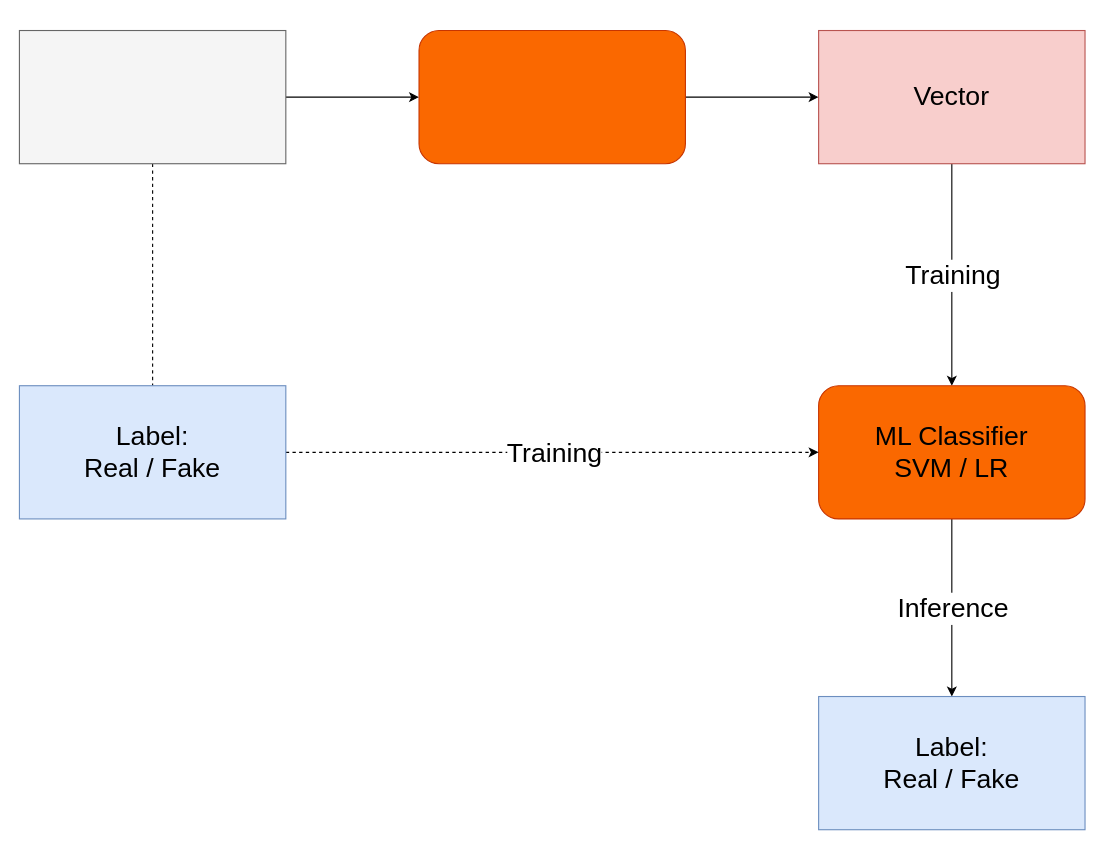
The diagram is 1104 pixels wide and 849 high, and some of its shapes have lost their labels. Here are the shapes that lost their labels. From the top down, the centre of each, then its label:
the point at 152,96: News Title News Content
the point at 551,96: Word2Vec: TF/IDF
